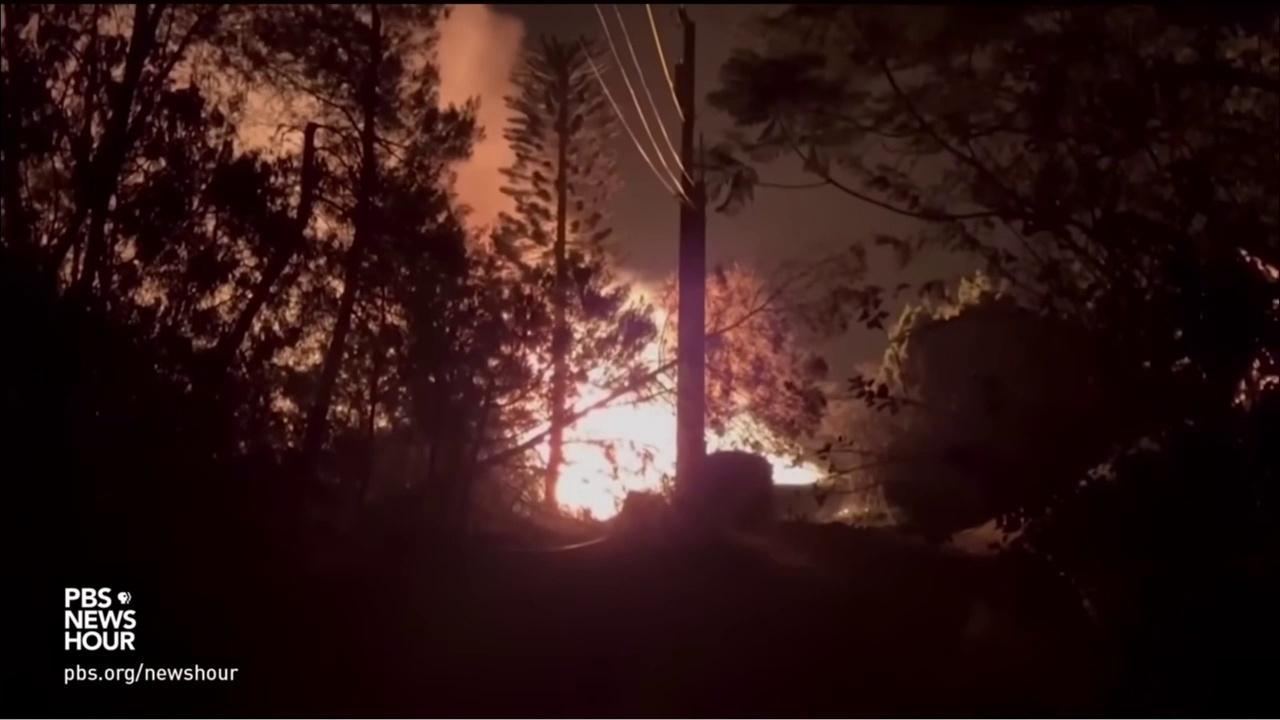fire: (486, 264, 831, 526)
smoke: (3, 6, 554, 504)
